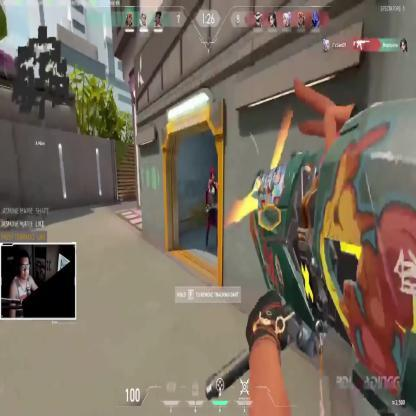enemy: (202, 168, 224, 256)
enemy_head: (209, 168, 214, 182)
